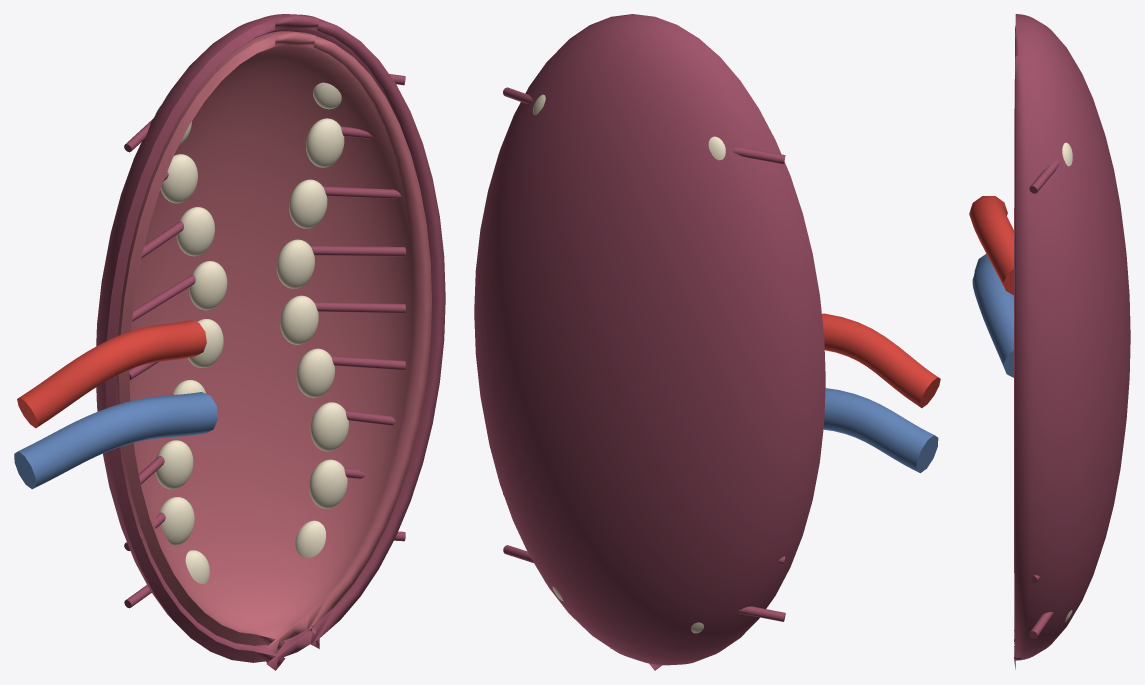
Rendered from spleen.c3050fc7.glb.
The picture shows the model from 3 angles, left to right: view 1: azimuth 30°, elevation 25°; view 2: azimuth 150°, elevation 25°; view 3: azimuth 270°, elevation 25°; orthographic projection. The views are drawn at different scales.
Parts seen in each view (by area): view 1: Red pulp, Splenic capsule, Splenic vein, Splenic artery, White pulp follicle.013, White pulp follicle.009, White pulp follicle.011, White pulp follicle.005, White pulp follicle.007, White pulp follicle.003, White pulp follicle.015, White pulp follicle.010 (+12 smaller); view 2: Splenic capsule, Splenic vein, Splenic artery; view 3: Splenic capsule, Splenic vein, Splenic artery, Trabecula.017, Trabecula.001.
Part boxes in pixels (x1,y1,x2,y2): Red pulp: [116, 31, 431, 654]; Splenic capsule: [96, 14, 445, 670]; Splenic vein: [14, 392, 217, 489]; Splenic artery: [17, 320, 206, 428]; White pulp follicle.013: [289, 179, 327, 228]; White pulp follicle.009: [280, 295, 318, 344]; White pulp follicle.011: [276, 239, 314, 288]; White pulp follicle.005: [310, 402, 348, 451]; White pulp follicle.007: [296, 348, 334, 397]; White pulp follicle.003: [309, 459, 347, 508]; White pulp follicle.015: [306, 118, 344, 167]; White pulp follicle.010: [189, 261, 227, 310]; Splenic capsule: [474, 14, 825, 670]; Splenic vein: [823, 388, 938, 473]; Splenic artery: [822, 313, 940, 407]; Splenic capsule: [1014, 14, 1130, 669]; Splenic vein: [972, 254, 1013, 377]; Splenic artery: [969, 196, 1013, 295]; Trabecula.017: [1029, 160, 1059, 193]; Trabecula.001: [1029, 612, 1053, 638].
Size of the model in its own units: 2.66 by 3.8 by 0.8732.
